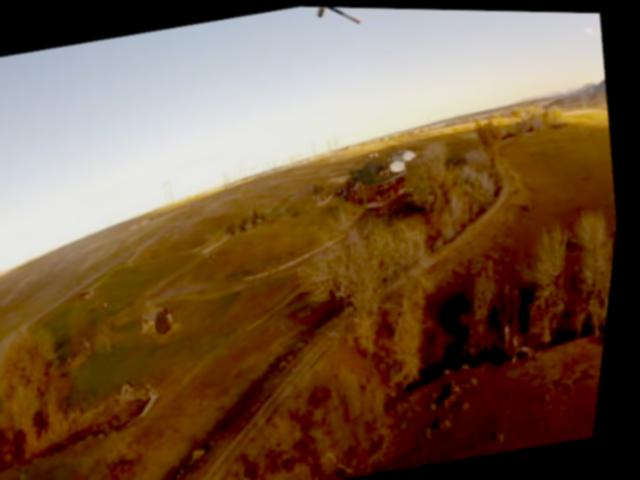uav: (283, 5, 363, 38)
